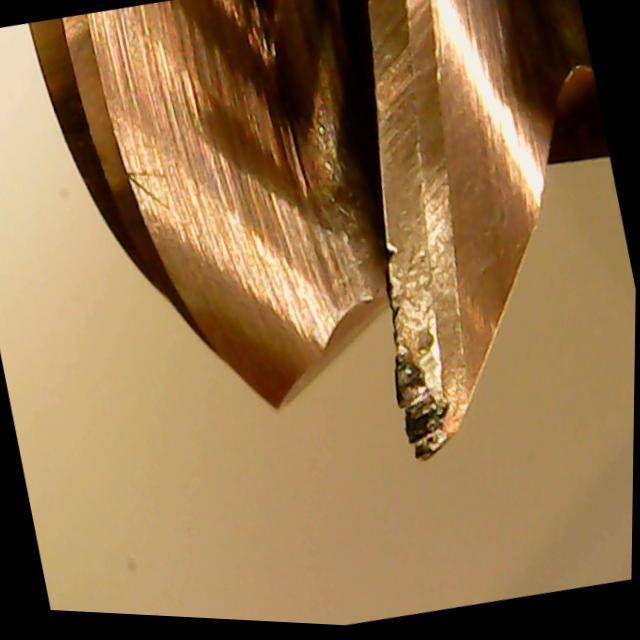Tool-wear-class-1: (335, 178, 520, 480)
